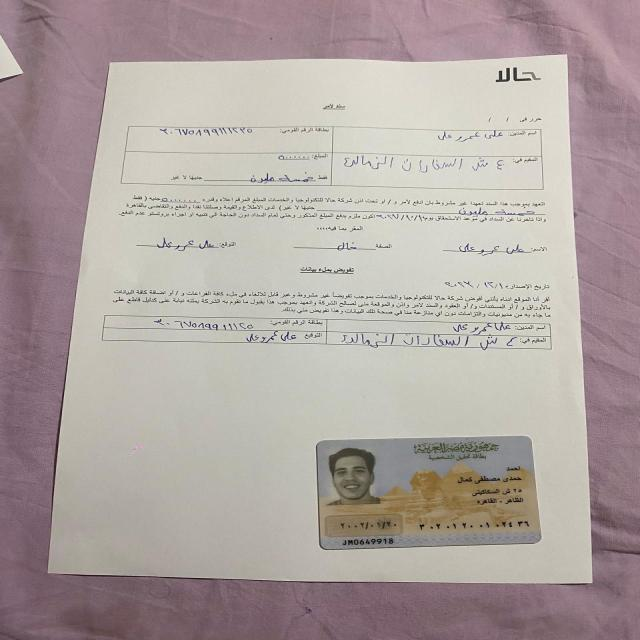id_card: (311, 432, 548, 553)
